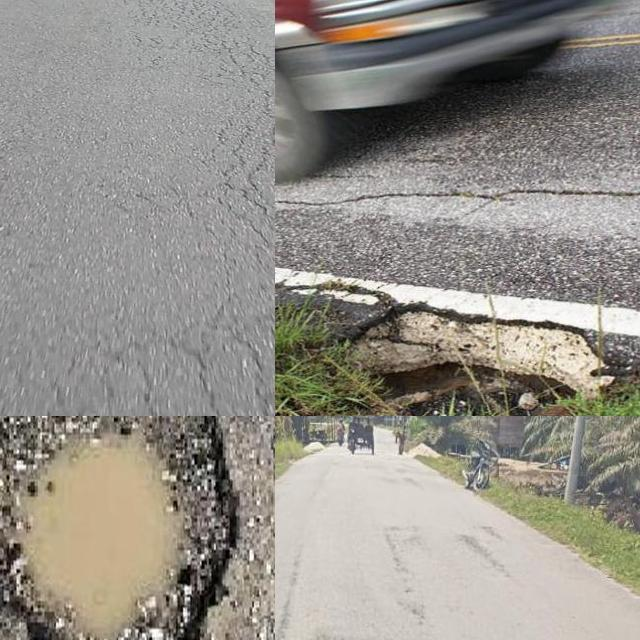Lubang: (0, 416, 227, 640)
Pinggir: (275, 281, 623, 416)
